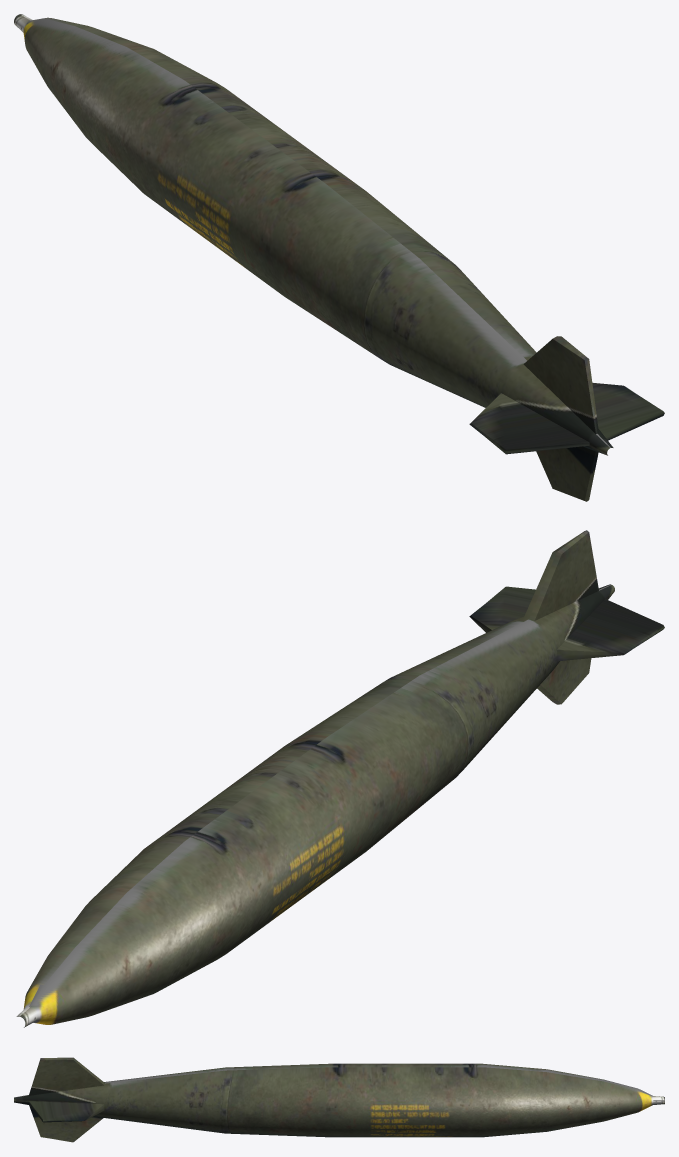
3 views of the same model, one above another, from view 1: azimuth 30°, elevation 25°; view 2: azimuth 150°, elevation 25°; view 3: azimuth 270°, elevation 25° (orthographic). The views are drawn at different scales.
Visible parts, largest first — view 1: Circle; view 2: Circle; view 3: Circle.
Boxes of the visible parts, bbox=[...] form: Circle: bbox=[14, 14, 664, 501]; Circle: bbox=[16, 530, 664, 1027]; Circle: bbox=[14, 1057, 664, 1142].
Size of the model in its own units: 92.36 by 84.06 by 589.
1 material, 1 textured.
